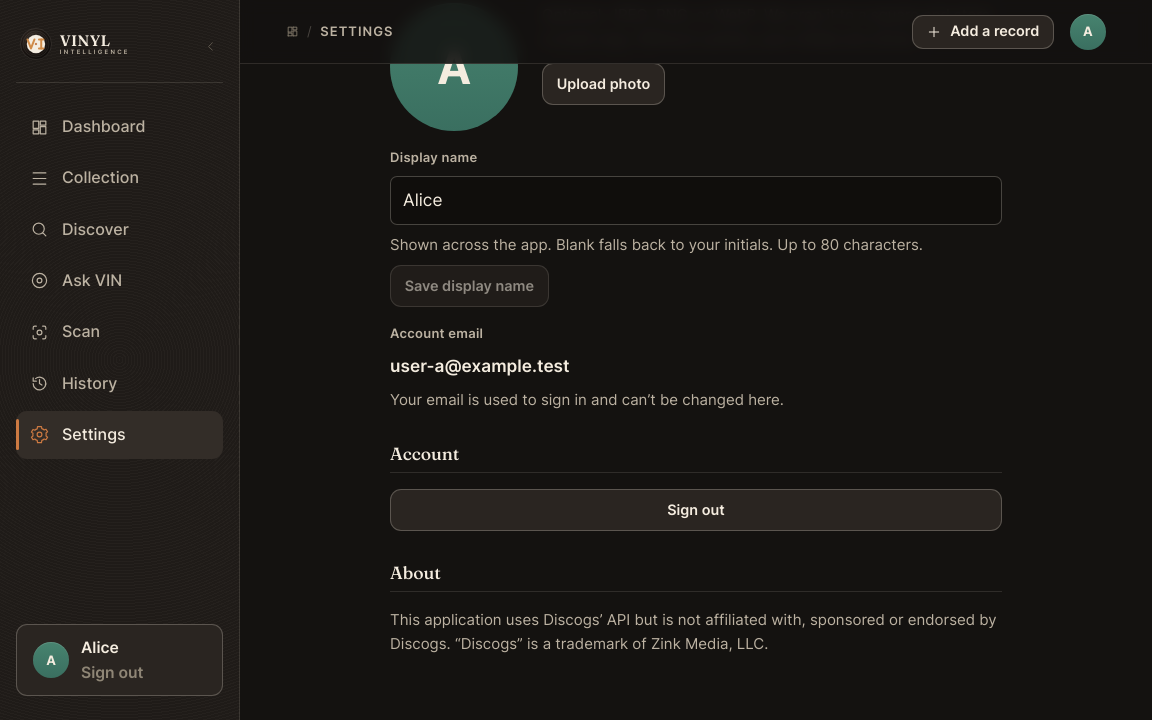
Scenario: auth and profile workflow (routed) › signs out from the settings profile shell
(page scrolled)
Step 1. Click the button "Sign out" → (696, 510), box x1=390 y1=489 x2=1002 y2=530
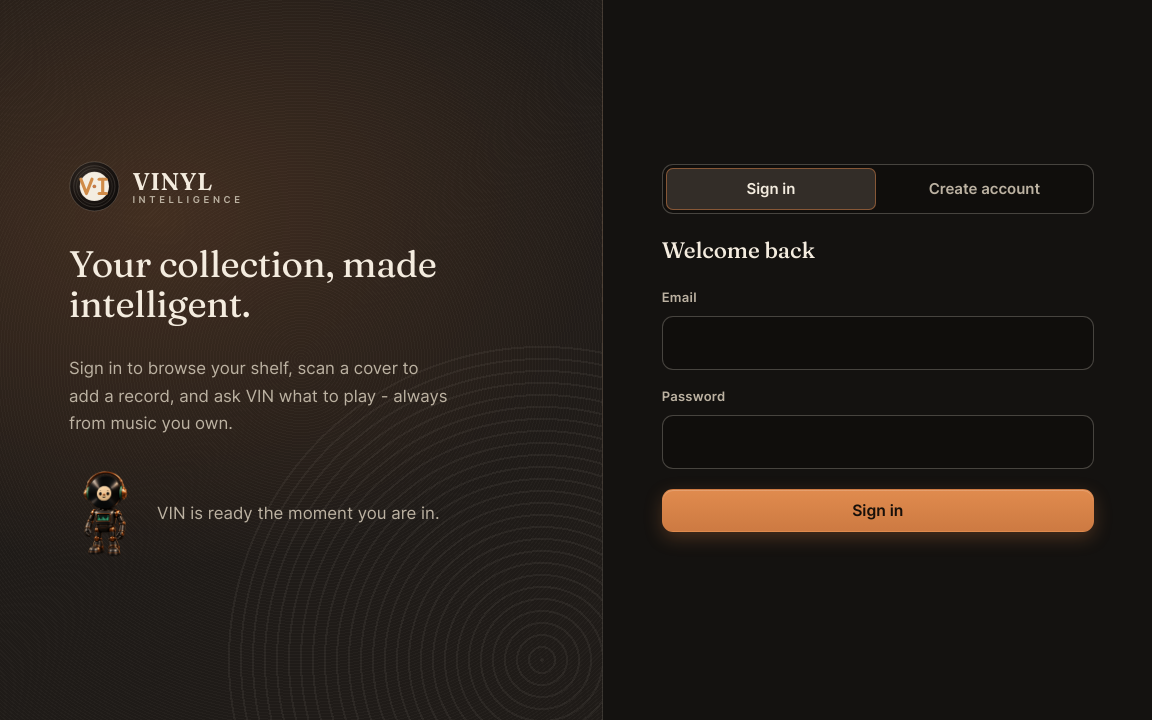
Expected: the button "Sign in" is shown, x1=662 y1=489 x2=1094 y2=532
